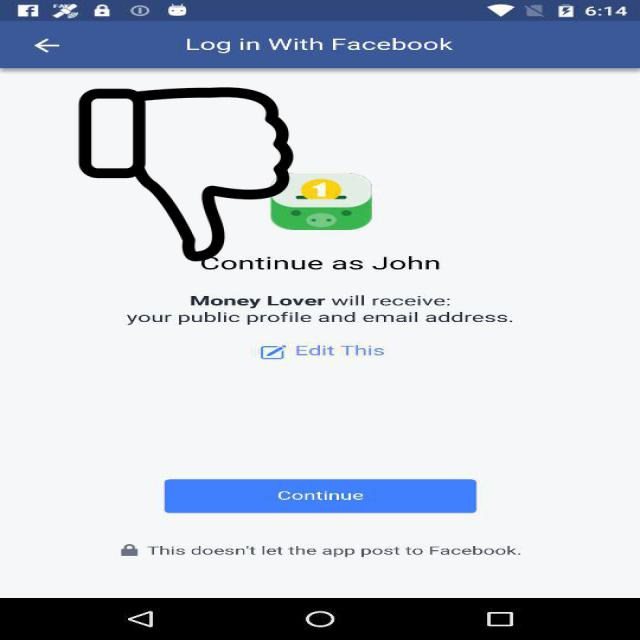obstruction: (76, 88, 296, 262)
